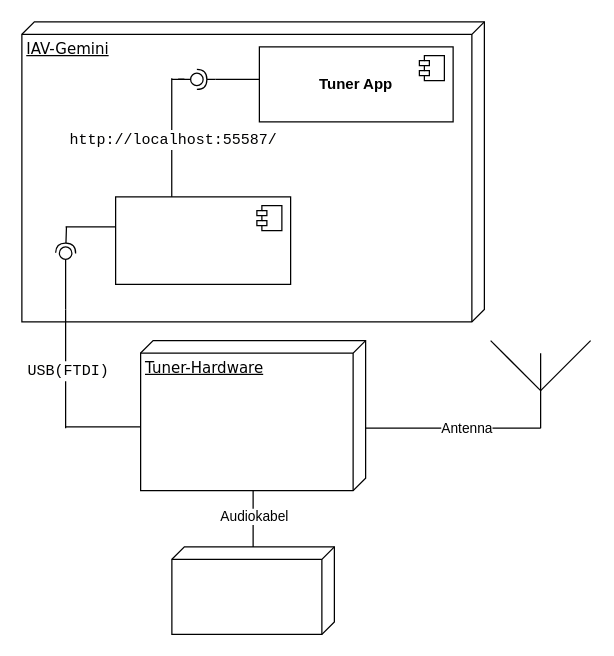
Image size: 614x656. Some labels were removed from this diagram. The shapes that lost their labels are listed below. From the top down, each one's centre as x and y in pixels, then its label:
(x=202, y=240): Tuner-Middleware
(x=252, y=590): Lautsprecher
